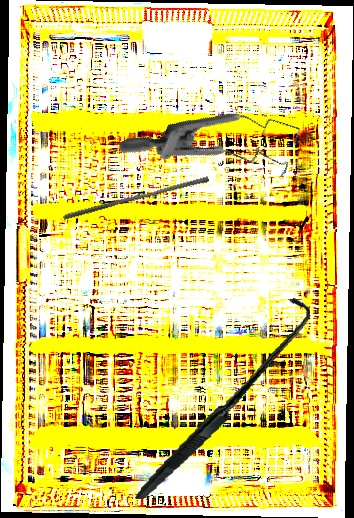Hook Surgical: (112, 296, 331, 500)
Pusher: (62, 171, 210, 226)
Speculum: (117, 59, 317, 241)
